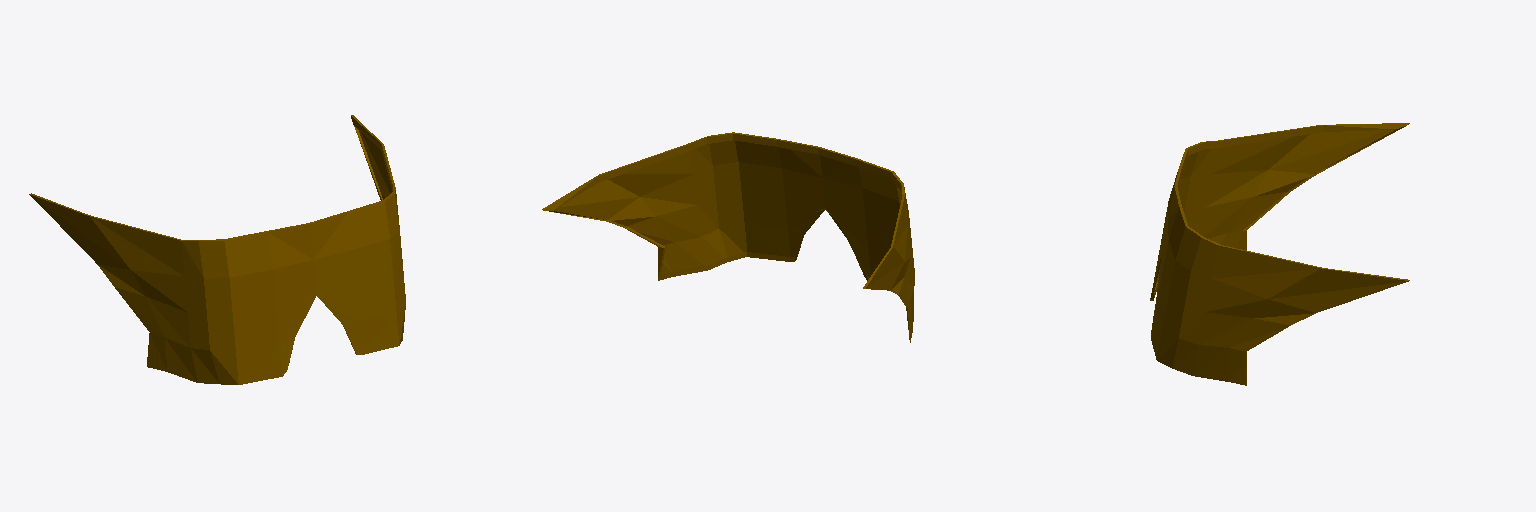
Rendered from gafas.obj.
3 views of the same model, side by side, from view 1: azimuth 30°, elevation 25°; view 2: azimuth 150°, elevation 25°; view 3: azimuth 270°, elevation 25° (orthographic).
Parts seen in each view (by area): view 1: Right2; view 2: Right2; view 3: Right2.
Part boxes in pixels (x1,y1,x2,y2): Right2: (29,115,405,384); Right2: (542,132,914,342); Right2: (1150,123,1409,385).
Bounding box in the file's own units: 6.75 × 2.8 × 4.68.